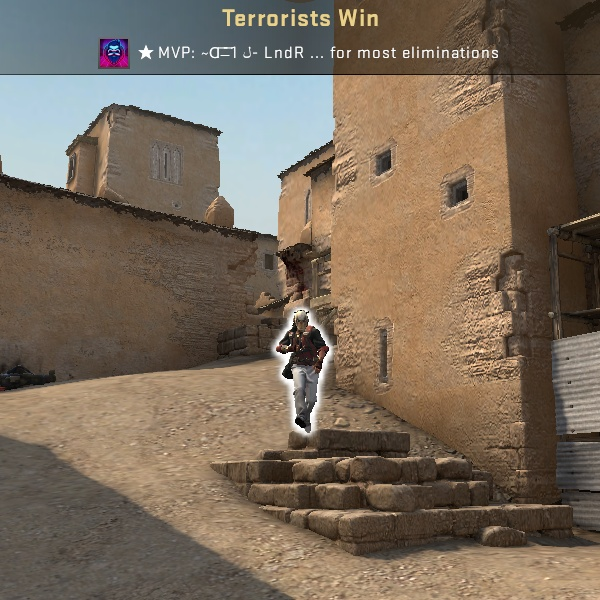t_body: (263, 308, 340, 442)
t_head: (291, 308, 313, 335)
